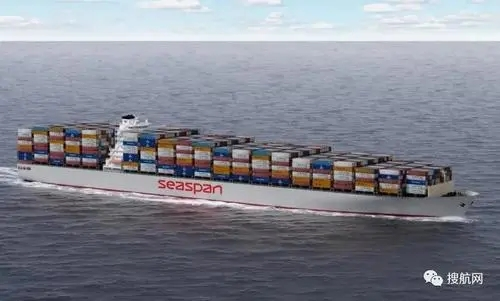Cargoship: (13, 113, 477, 220)
